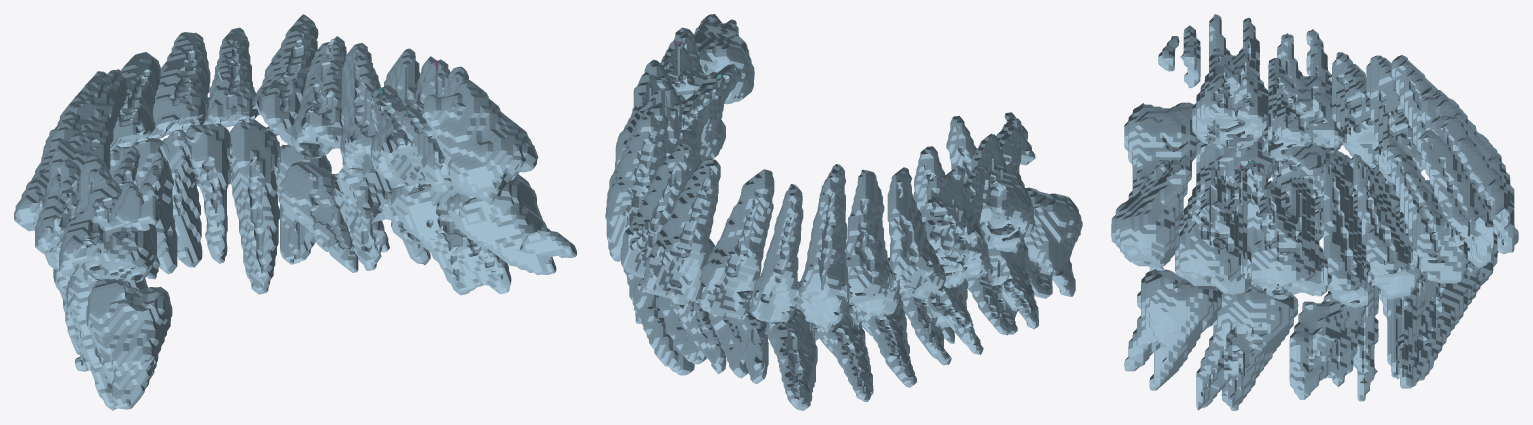
Rendered from STS25_Train_Labeled_0014.glb.
The picture shows the model from 3 angles, left to right: view 1: azimuth 30°, elevation 25°; view 2: azimuth 150°, elevation 25°; view 3: azimuth 270°, elevation 25°; orthographic projection. The views are drawn at different scales.
Visible parts, largest first — view 1: teeth__1, teeth__12; view 2: teeth__1, teeth__12; view 3: teeth__1, teeth__12.
Part boxes in pixels (x1,y1,x2,y2): teeth__1: (14,14,511,410); teeth__12: (86,80,576,409); teeth__1: (605,27,1038,410); teeth__12: (693,14,1082,298); teeth__1: (1175,14,1518,410); teeth__12: (1111,25,1221,390).
Size of the model in its own units: 73.2 by 42.55 by 57.57.
